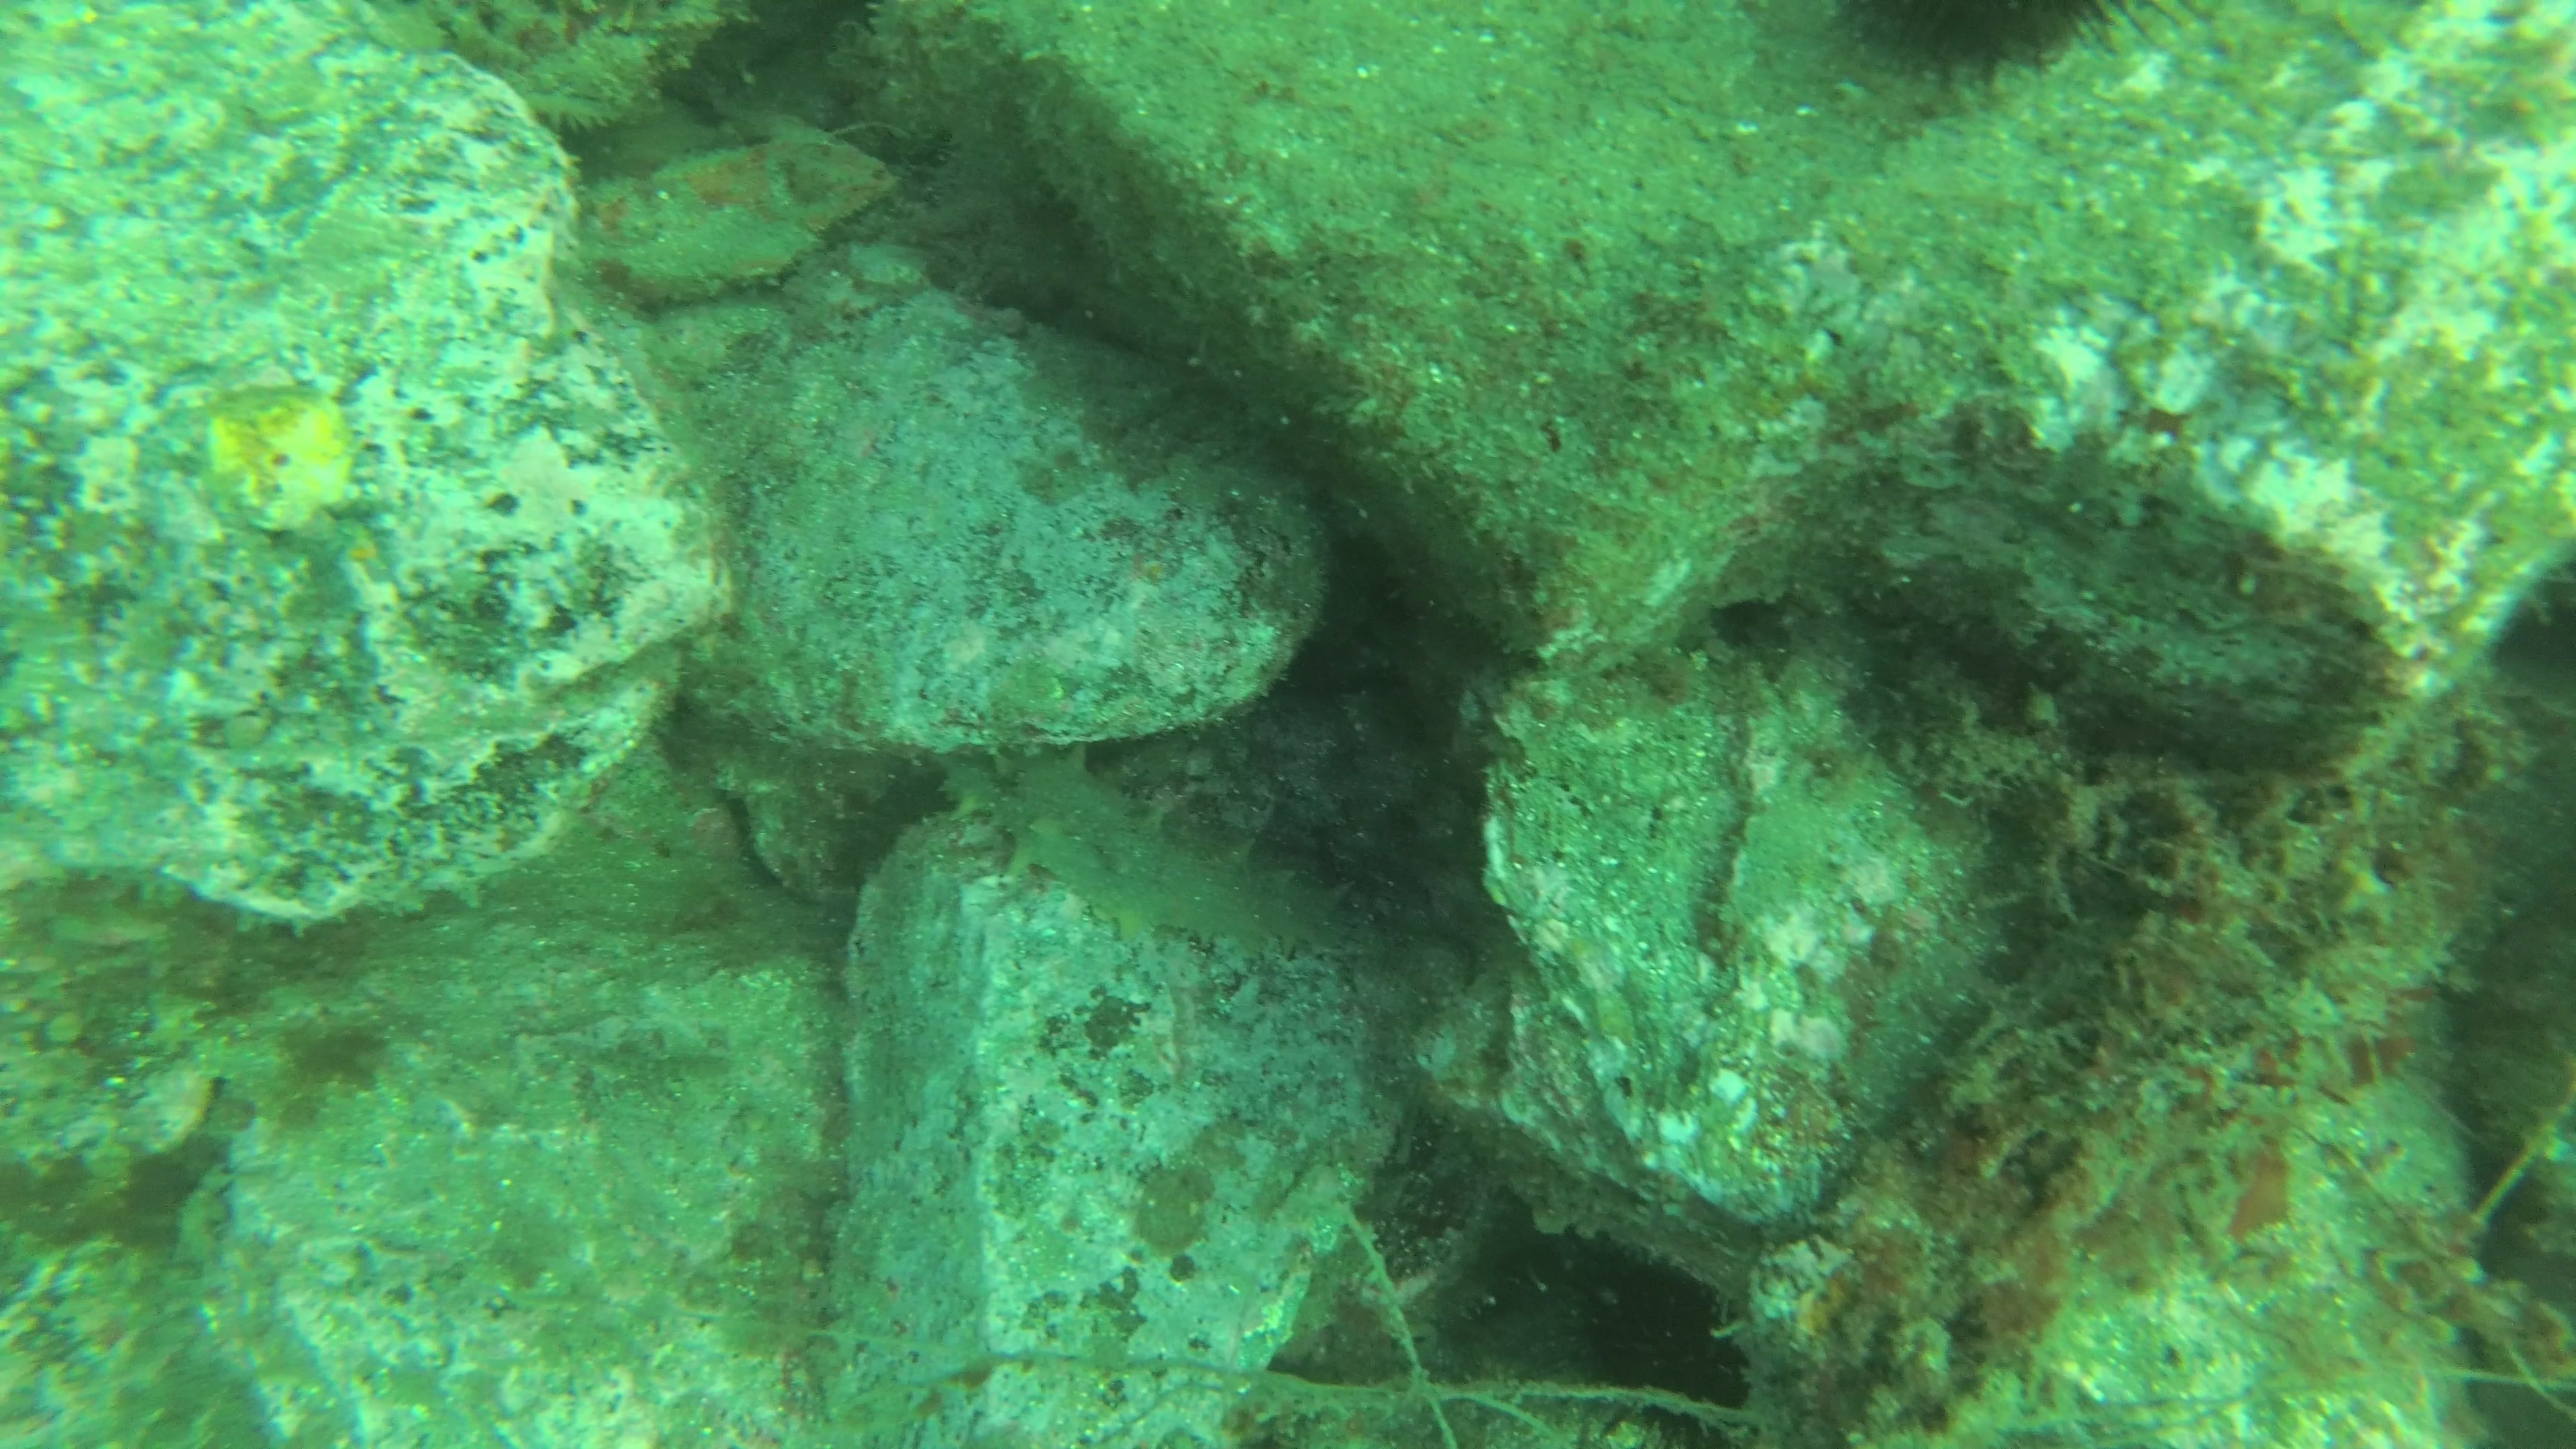echinus: (1821, 4, 2158, 103)
holothurian: (927, 729, 1376, 968)
